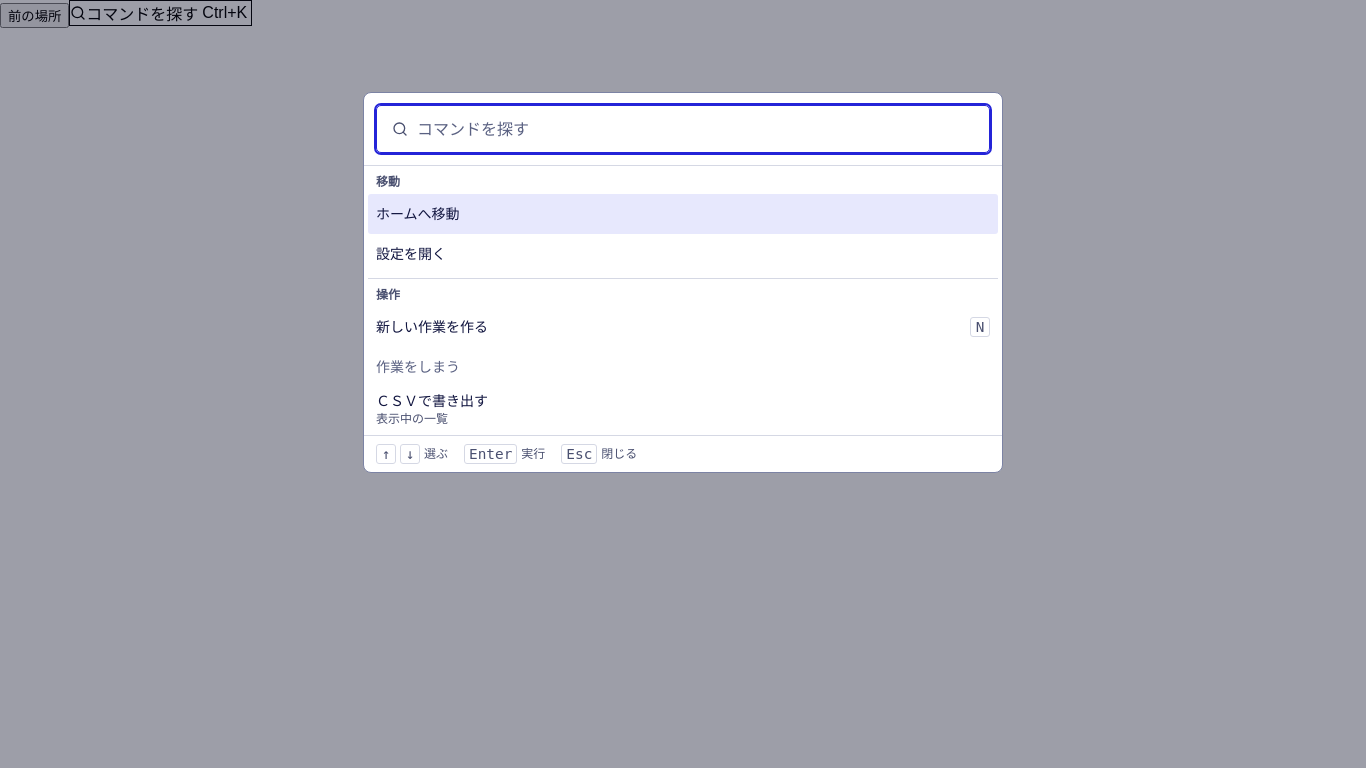
CommandPalette › does not filter, run or close while converting
In the dropdown labelled "コマンド": [683, 129] box [376,105,990,153], type "せってい"
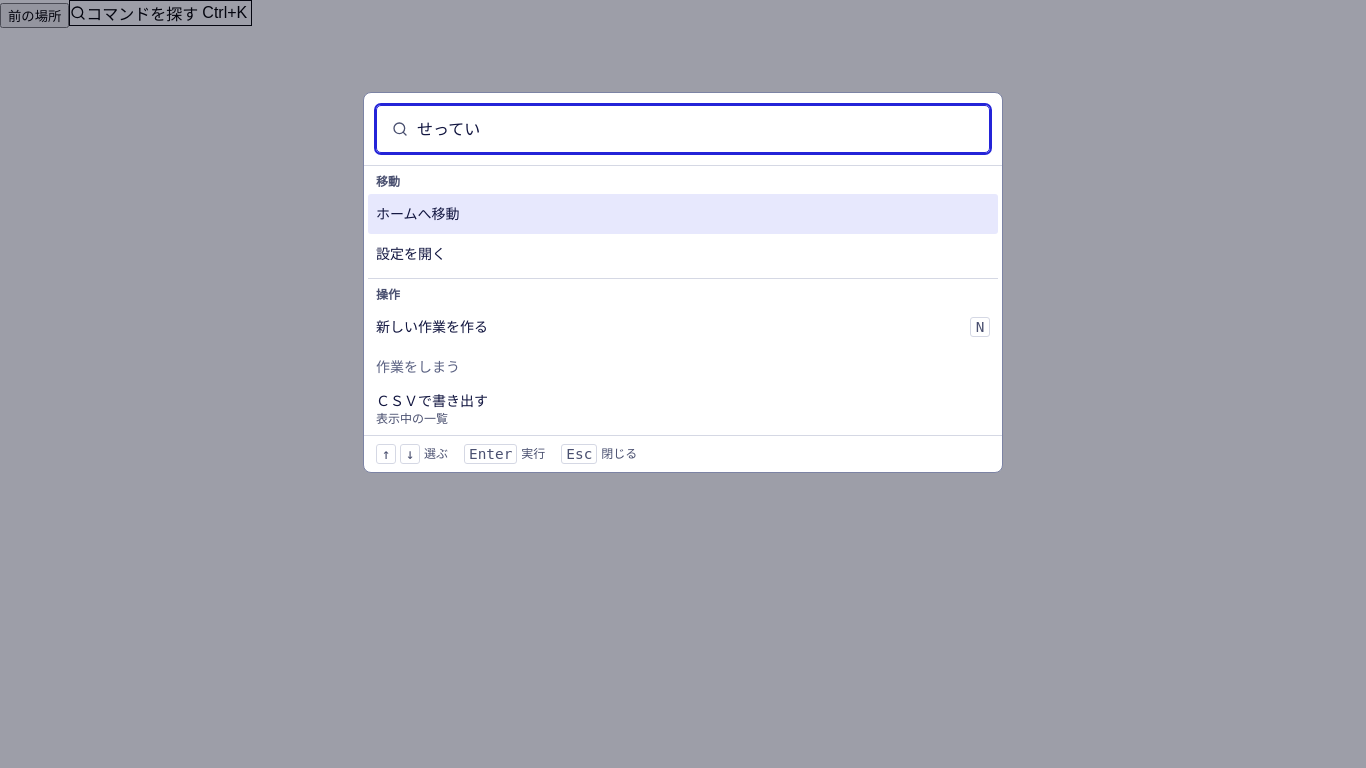
Expected: the number of options is 5, [368,194,998,234]; [376,244,446,263]; [376,317,990,337]; [376,357,460,376]; [376,391,488,427]
Press Enter in the dropdown named "コマンド", box [376,105,990,153]
Press Escape in the dropdown named "コマンド", box [376,105,990,153]
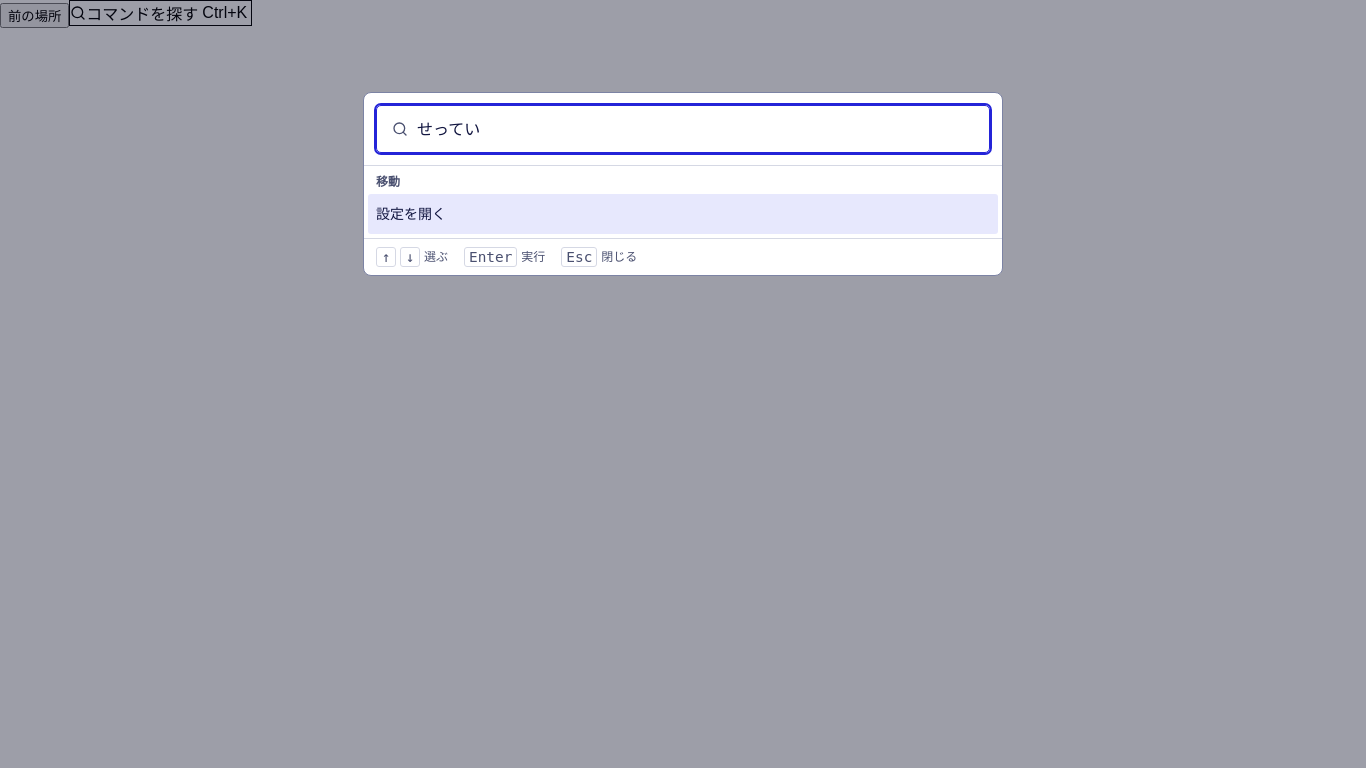
Expected: the dialog is shown, [363,92,1003,276]
Now the number of options is 1, box [368,194,998,234]
